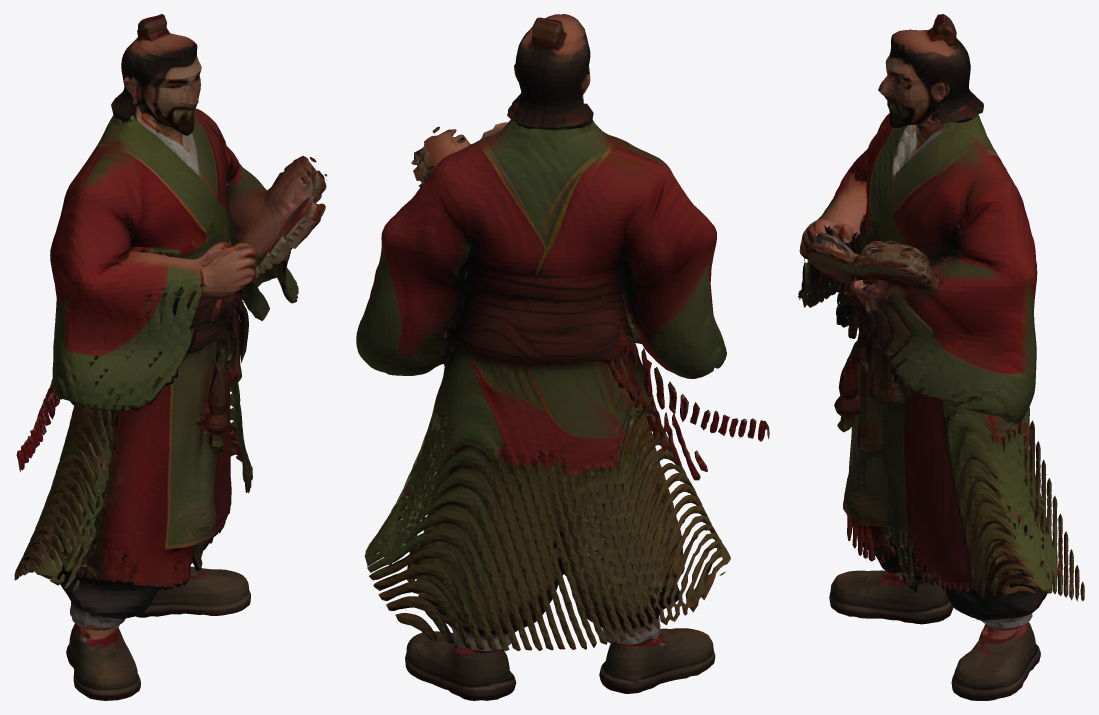
Rendered from body.glb.
3 renders of one model, left to right at view 1: azimuth 30°, elevation 25°; view 2: azimuth 150°, elevation 25°; view 3: azimuth 270°, elevation 25°, orthographic. The views are drawn at different scales.
Parts seen in each view (by area): view 1: geometry_0; view 2: geometry_0; view 3: geometry_0.
Boxes of the visible parts, x1,y1,x2,y2 form: geometry_0: (14,14,327,700); geometry_0: (356,14,769,700); geometry_0: (798,14,1084,700).
Size of the model in its own units: 1.08 by 1.96 by 0.8078.
1 material, 1 textured.
